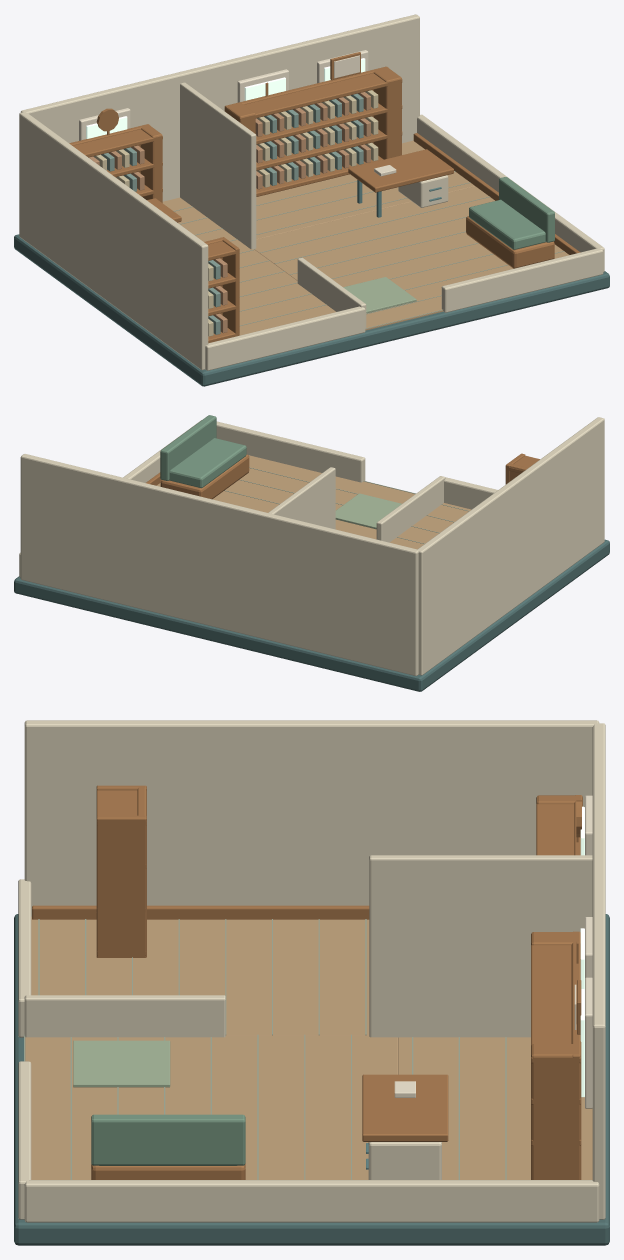
The model's file is interior-townhall.glb.
The picture shows the model from 3 angles, top to bottom: view 1: azimuth 30°, elevation 25°; view 2: azimuth 150°, elevation 25°; view 3: azimuth 270°, elevation 25°; orthographic projection. The views are drawn at different scales.
Parts seen in each view (by area): view 1: Surface Warm plaster, Surface Oak floor, Surface Honey oak, Interior plinth, Surface Sage upholstery, Surface Book1, Surface Book2, Surface Book0, Surface Floor seam, Surface Linen, Welcome rug, Surface Daylight; view 2: Surface Warm plaster, Interior plinth, Surface Oak floor, Surface Sage upholstery, Surface Honey oak, Welcome rug, Surface Floor seam; view 3: Surface Warm plaster, Surface Oak floor, Surface Honey oak, Interior plinth, Surface Sage upholstery, Welcome rug, Surface Floor seam, Surface Linen, Surface Daylight.
Part boxes in pixels (x1,y1,x2,y2): Surface Warm plaster: (19,14,604,370); Surface Oak floor: (162,140,569,335); Surface Honey oak: (69,52,580,343); Interior plinth: (14,234,609,386); Surface Sage upholstery: (469,177,554,249); Surface Book1: (89,92,370,333); Surface Book2: (93,90,378,336); Surface Book0: (101,93,363,334); Surface Floor seam: (173,171,564,328); Surface Linen: (79,50,396,176); Welcome rug: (343,277,416,313); Surface Daylight: (86,58,365,138); Surface Warm plaster: (19,417,604,675); Interior plinth: (14,539,609,691); Surface Oak floor: (156,455,471,549); Surface Sage upholstery: (160,415,246,488); Surface Honey oak: (146,453,539,499); Welcome rug: (335,493,401,529); Surface Floor seam: (224,467,469,543); Surface Warm plaster: (18,720,605,1222); Surface Oak floor: (25,916,592,1179); Surface Honey oak: (32,785,582,1179); Interior plinth: (14,914,609,1245); Surface Sage upholstery: (91,1114,245,1165); Welcome rug: (73,1040,170,1087); Surface Floor seam: (24,919,506,1179); Surface Linen: (394,795,592,1108); Surface Daylight: (580,806,584,1097).
Size of the model in its own units: 10.3 by 3.33 by 8.3.
